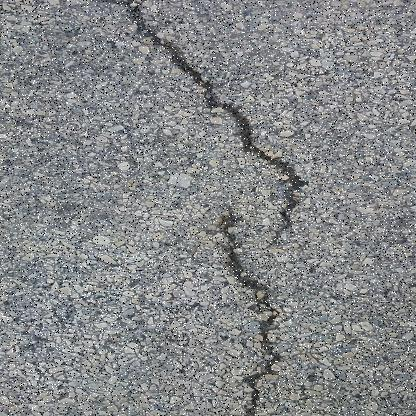Cracks: (87, 0, 324, 242), (206, 209, 303, 415)
